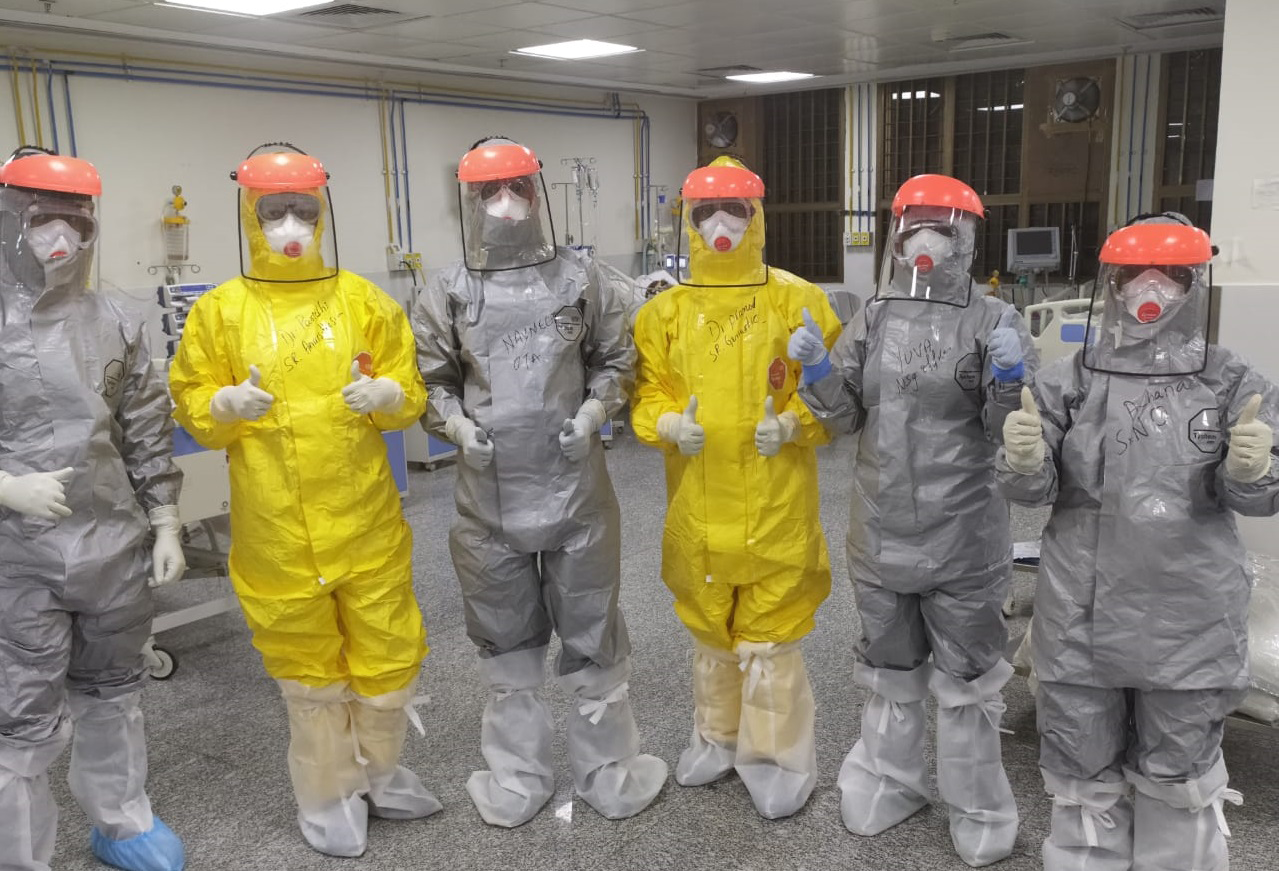Coverall: (170, 147, 435, 860), (1006, 218, 1277, 871), (413, 138, 648, 836), (791, 176, 1025, 862), (1033, 224, 1278, 871), (1, 147, 188, 871), (629, 149, 827, 818)
Face_Shield: (1083, 212, 1219, 390), (2, 154, 110, 330), (230, 143, 344, 289), (454, 137, 566, 276), (878, 172, 980, 312), (680, 168, 773, 291)
Gloves: (1225, 393, 1271, 484), (2, 466, 78, 519), (213, 363, 275, 422), (342, 357, 403, 415), (1006, 385, 1046, 470), (556, 399, 609, 462), (147, 506, 188, 585), (444, 413, 495, 472), (660, 394, 708, 456), (787, 303, 826, 370), (754, 396, 796, 456), (989, 298, 1023, 369)
Goggles: (19, 196, 103, 246), (1113, 263, 1200, 295), (256, 191, 328, 219), (689, 195, 754, 223), (894, 218, 963, 239), (479, 176, 534, 199)
Mask: (29, 219, 84, 269)
with_mask: (1128, 272, 1178, 322), (906, 228, 953, 274), (268, 221, 311, 260), (696, 215, 747, 247), (489, 193, 530, 219)
